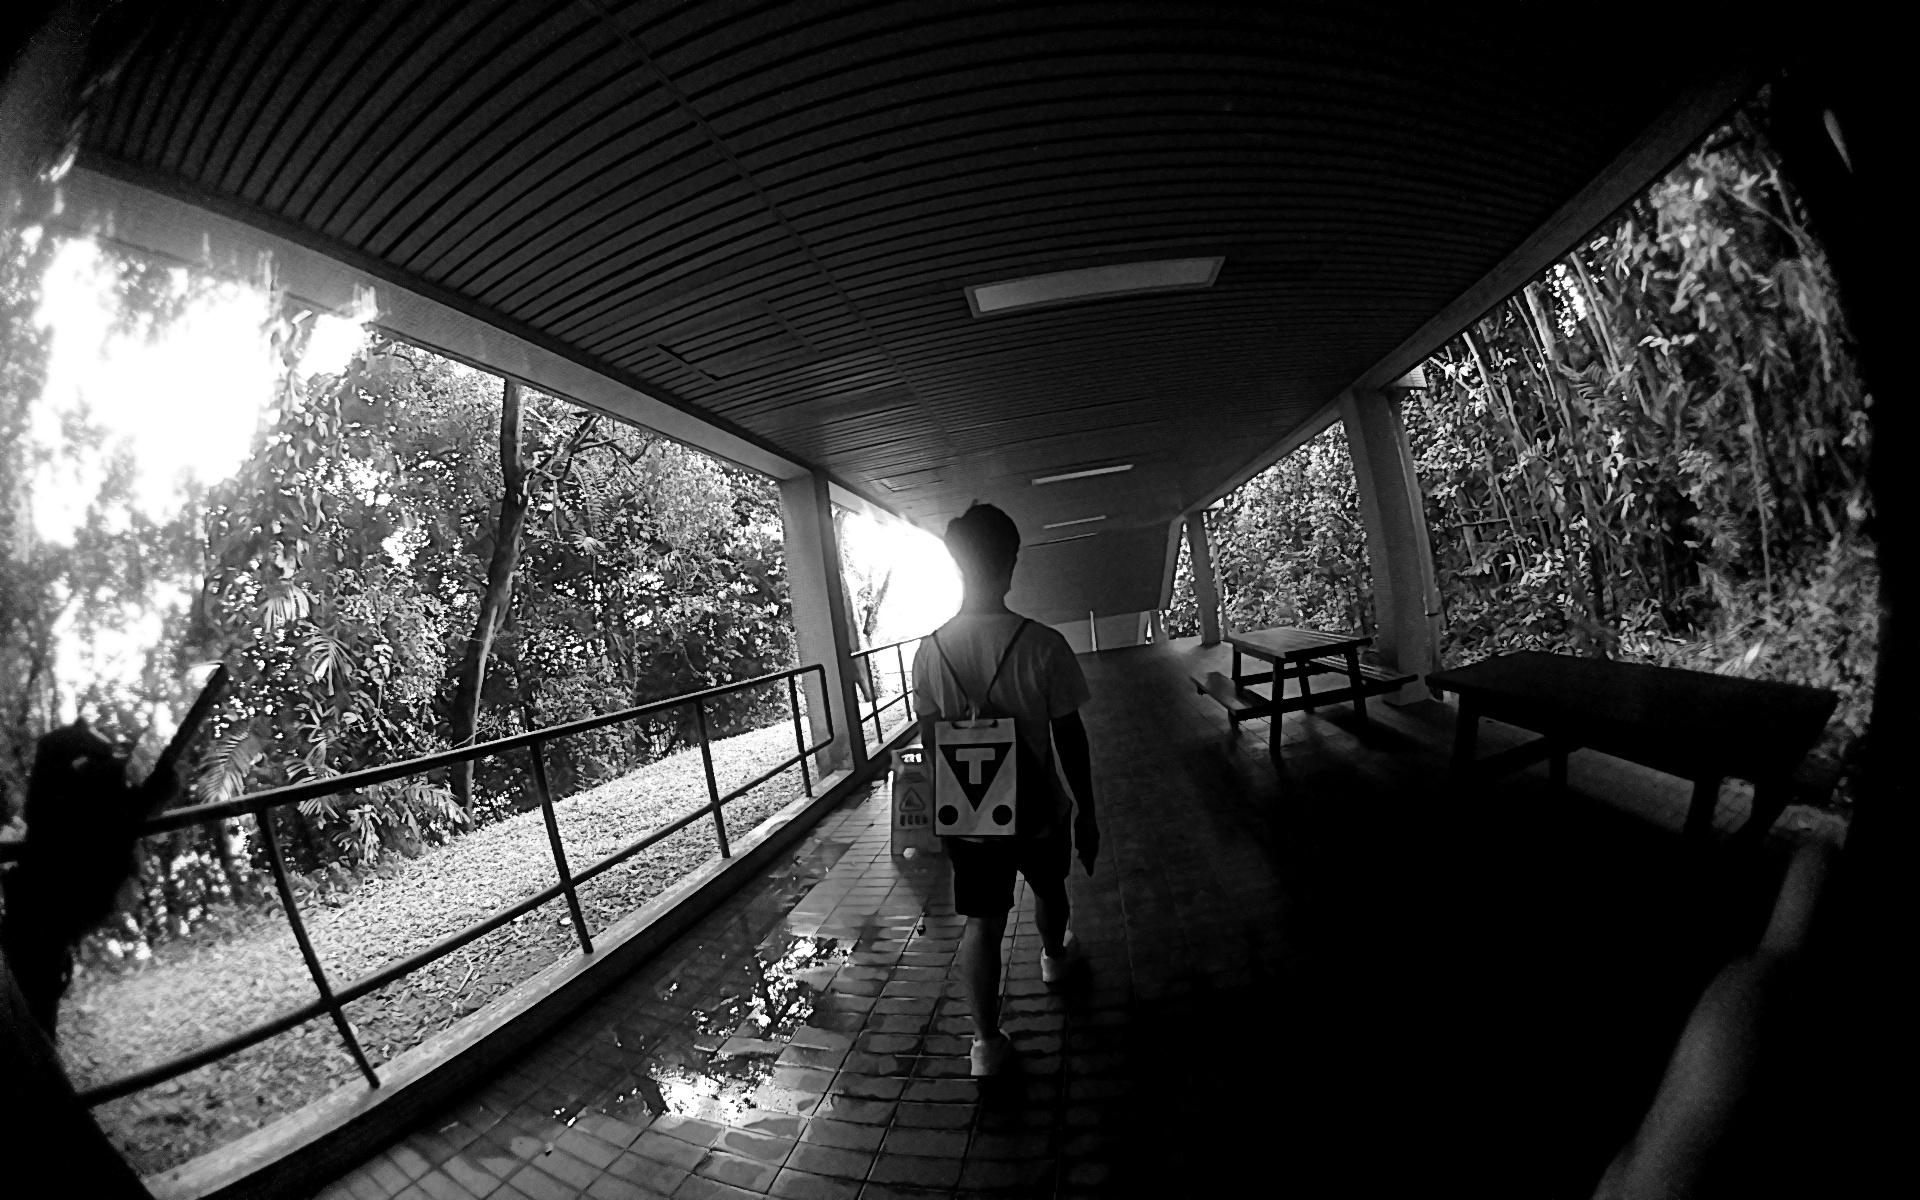fly_lower: (937, 737, 1015, 829)
